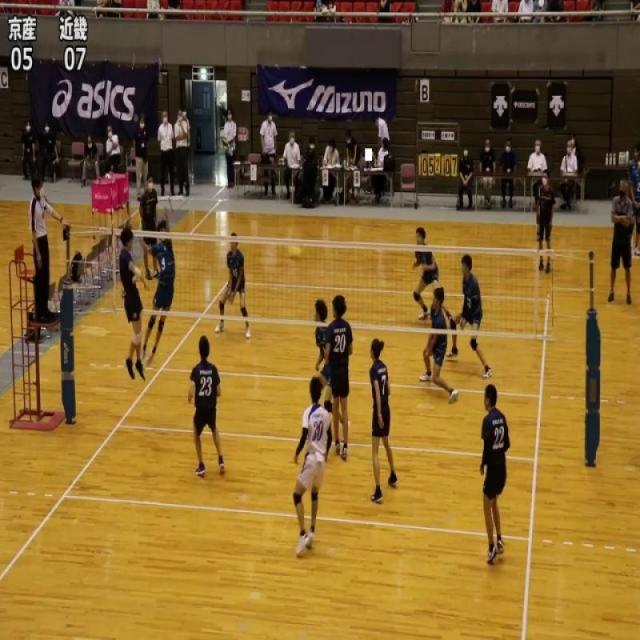volleyball: (287, 245, 304, 261)
